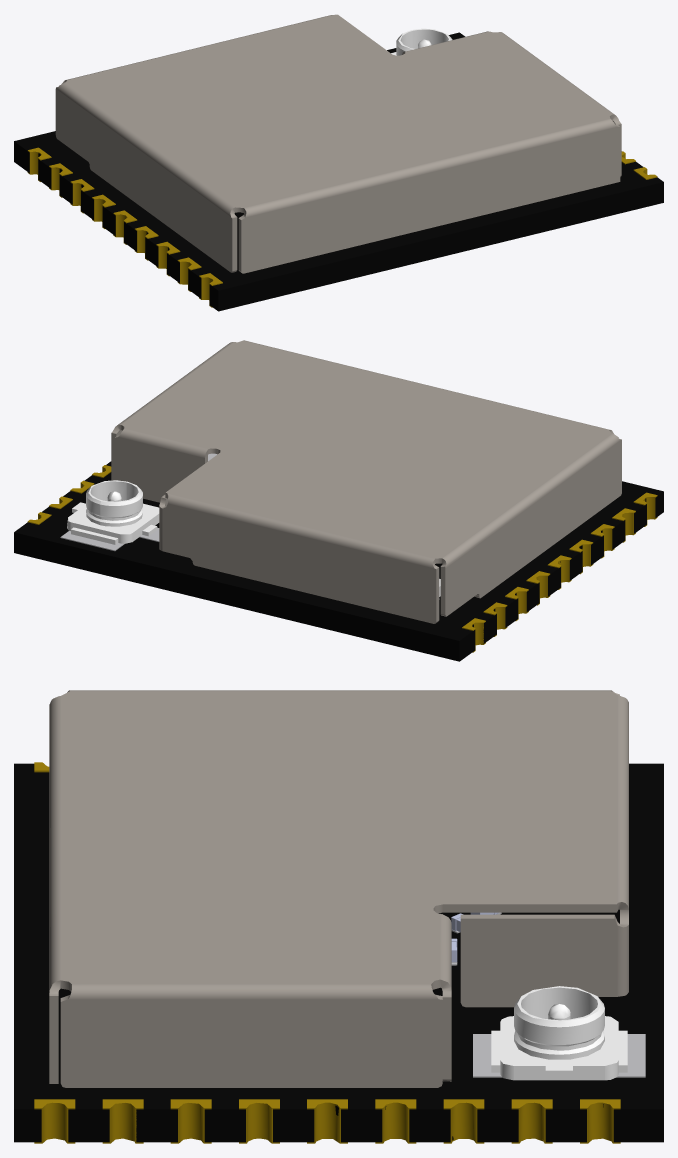
The model's file is esp-esp8684-wroom-02uc.glb.
3 views of the same model, one above another, from view 1: azimuth 30°, elevation 25°; view 2: azimuth 150°, elevation 25°; view 3: azimuth 270°, elevation 25° (orthographic). The views are drawn at different scales.
Parts seen in each view (by area): view 1: 0.4166666666666667_0.3333333333333333_0.3333333333333333_0, 0_0_0_0, 0.4166666666666667_0.25_0_0, 1_1_1_0.85; view 2: 0.4166666666666667_0.3333333333333333_0.3333333333333333_0, 0_0_0_0, 1_1_1_0.85, 0.4166666666666667_0.25_0_0, 0.5833333333333334_0.5833333333333334_0.5833333333333334_0.8; view 3: 0.4166666666666667_0.3333333333333333_0.3333333333333333_0, 0_0_0_0, 0.4166666666666667_0.25_0_0, 1_1_1_0.85, 0.5833333333333334_0.5833333333333334_0.5833333333333334_0.8.
Boxes of the visible parts, <box> form: 0.4166666666666667_0.3333333333333333_0.3333333333333333_0: <box>55,14,621,273</box>; 0_0_0_0: <box>14,32,663,311</box>; 0.4166666666666667_0.25_0_0: <box>27,147,657,307</box>; 1_1_1_0.85: <box>391,28,452,55</box>; 0.4166666666666667_0.3333333333333333_0.3333333333333333_0: <box>111,340,621,623</box>; 0_0_0_0: <box>14,461,663,661</box>; 1_1_1_0.85: <box>67,480,440,596</box>; 0.4166666666666667_0.25_0_0: <box>27,465,657,652</box>; 0.5833333333333334_0.5833333333333334_0.5833333333333334_0.8: <box>60,453,439,599</box>; 0.4166666666666667_0.3333333333333333_0.3333333333333333_0: <box>49,690,628,1087</box>; 0_0_0_0: <box>14,763,663,1142</box>; 0.4166666666666667_0.25_0_0: <box>34,762,620,1143</box>; 1_1_1_0.85: <box>491,986,627,1080</box>; 0.5833333333333334_0.5833333333333334_0.5833333333333334_0.8: <box>451,912,645,1077</box>.
Size of the model in its own units: 1.8 by 0.3235 by 1.43.
